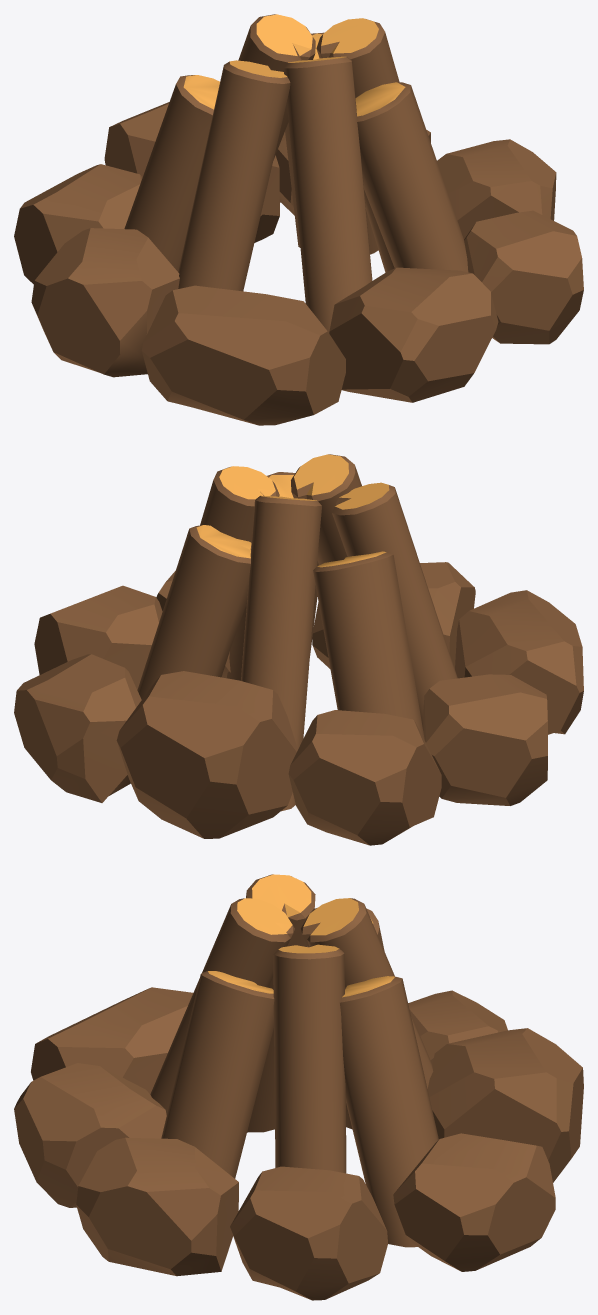
Rendered from bonfire.glb.
3 renders of one model, top to bottom at view 1: azimuth 30°, elevation 25°; view 2: azimuth 150°, elevation 25°; view 3: azimuth 270°, elevation 25°, orthographic. The views are drawn at different scales.
Parts seen in each view (by area): view 1: bonfire; view 2: bonfire; view 3: bonfire.
Part boxes in pixels (x1,y1,x2,y2): bonfire: [14, 14, 583, 425]; bonfire: [14, 454, 583, 845]; bonfire: [14, 874, 583, 1300].
Size of the model in its own units: 1.49 by 0.75 by 1.4.
